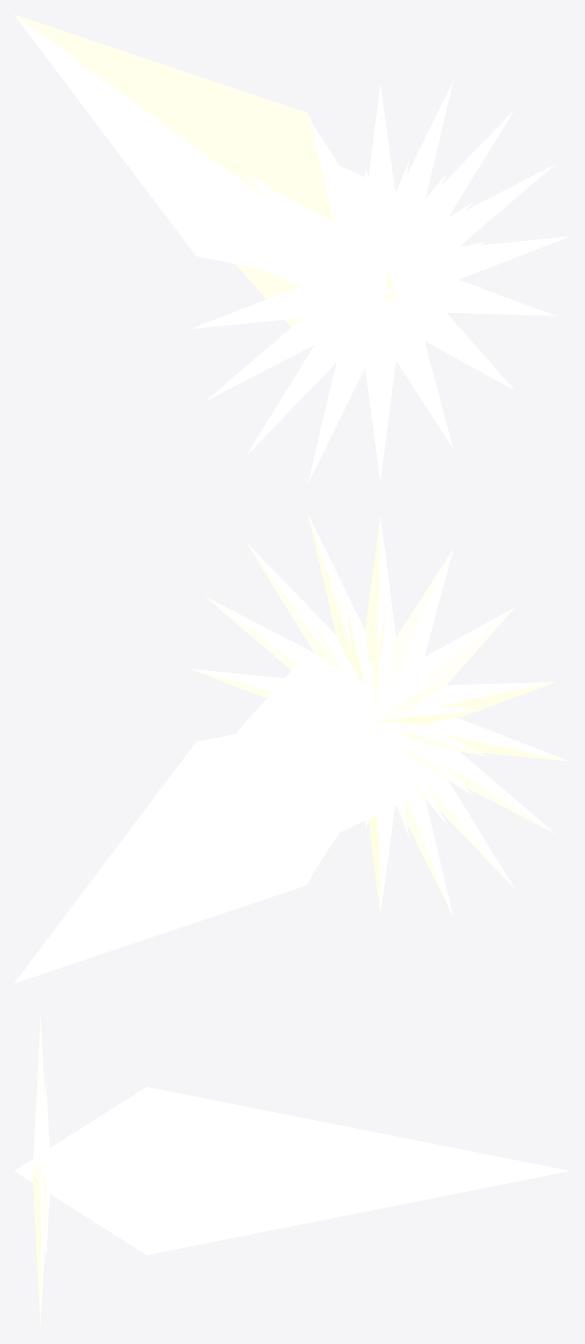
File: fx_flash_star.glb
The picture shows the model from 3 angles, top to bottom: view 1: azimuth 30°, elevation 25°; view 2: azimuth 150°, elevation 25°; view 3: azimuth 270°, elevation 25°; orthographic projection. The views are drawn at different scales.
Parts seen in each view (by area): view 1: fx_flash_star; view 2: fx_flash_star; view 3: fx_flash_star.
Boxes of the visible parts, x1,y1,x2,y2 form: fx_flash_star: [14, 14, 569, 483]; fx_flash_star: [14, 514, 569, 983]; fx_flash_star: [14, 1012, 569, 1329].
Size of the model in its own units: 0.24 by 0.24 by 0.42.
